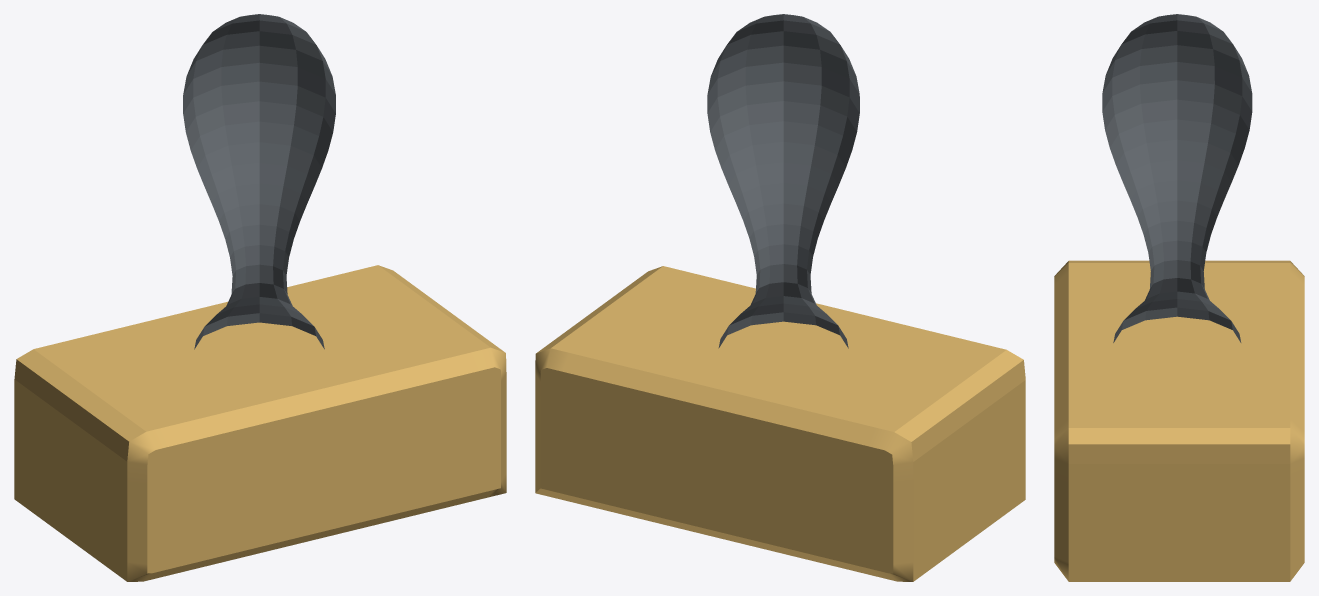
File: carimbo_polypizza_poly-by-google.glb
The picture shows the model from 3 angles, left to right: view 1: azimuth 30°, elevation 25°; view 2: azimuth 150°, elevation 25°; view 3: azimuth 270°, elevation 25°; orthographic projection.
Parts seen in each view (by area): view 1: Extrude, Cap_1, Lathe, Rounding_1; view 2: Extrude, Cap_2, Lathe, Rounding_2; view 3: Extrude, Lathe, Rounding_1, Rounding_2.
Boxes of the visible parts, <box> form: Extrude: <box>14,265,505,581</box>; Cap_1: <box>147,367,500,573</box>; Lathe: <box>183,14,335,349</box>; Rounding_1: <box>127,347,506,581</box>; Extrude: <box>536,266,1025,581</box>; Cap_2: <box>540,368,893,573</box>; Lathe: <box>707,14,859,348</box>; Rounding_2: <box>535,348,913,581</box>; Extrude: <box>1068,260,1290,581</box>; Lathe: <box>1102,14,1252,342</box>; Rounding_1: <box>1054,261,1068,581</box>; Rounding_2: <box>1290,261,1304,581</box>.
Size of the model in its own units: 166 by 201 by 96.76.
